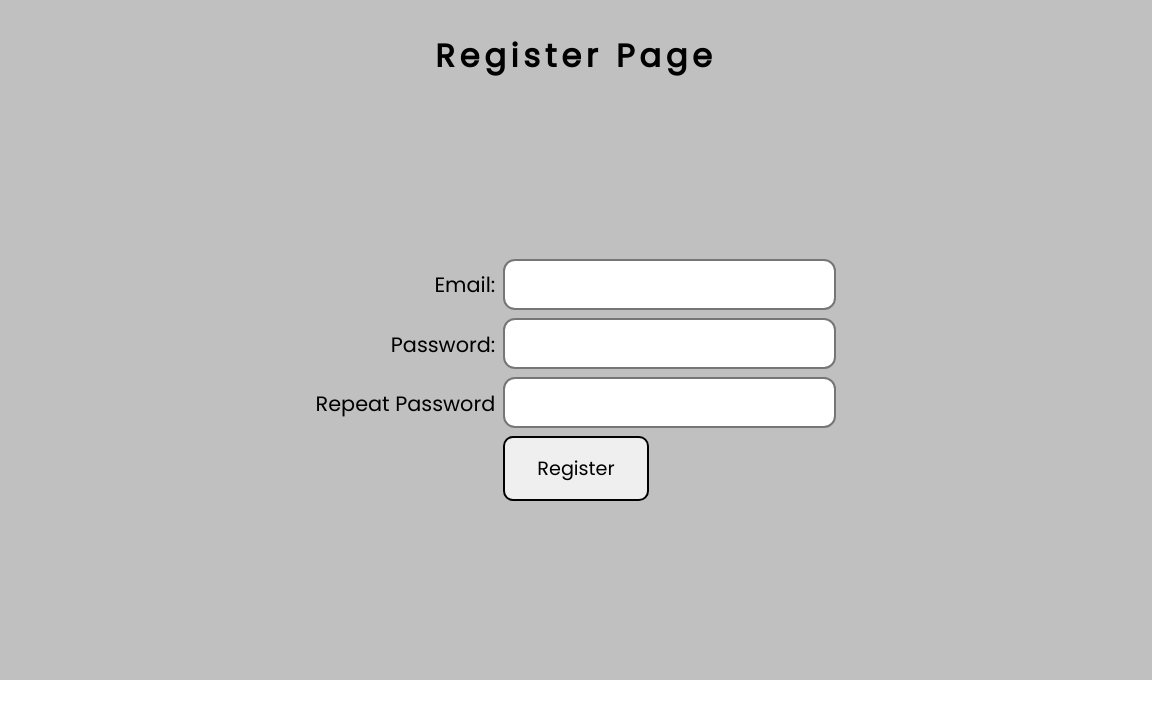
Test: Register Component › should display validation errors if click 'Register' button with empty input fields
This screenshot has width=1152, height=720.
Click the button "Register" at x=576, y=469, box [503, 436, 649, 501]
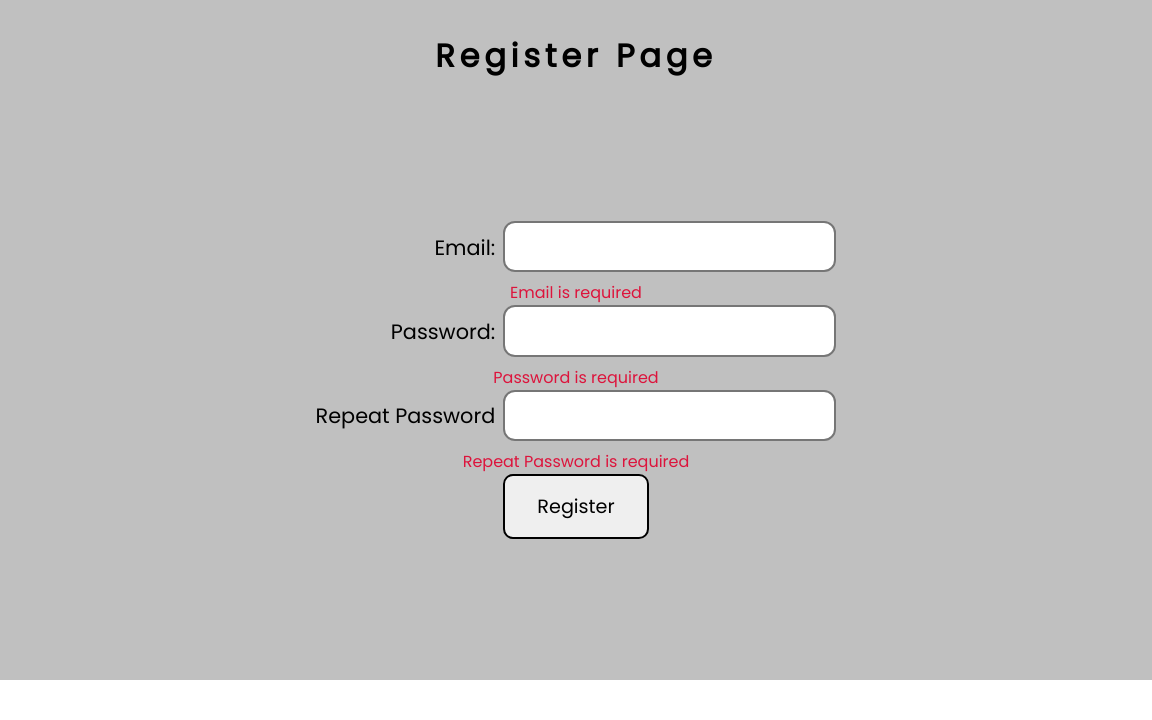
Result: the text "Email is required" is shown at [510, 281, 642, 304]
Result: the text "Password is required" is shown at [493, 366, 659, 389]
Result: the text "Repeat Password is required" is shown at [463, 450, 689, 473]
